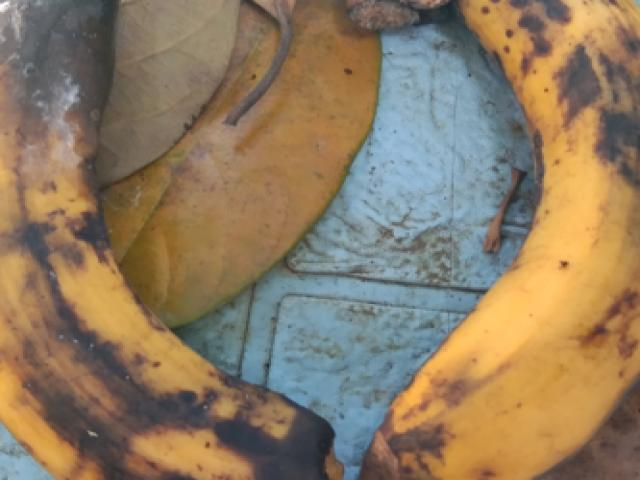overripe: (0, 0, 342, 472), (382, 0, 639, 475)
